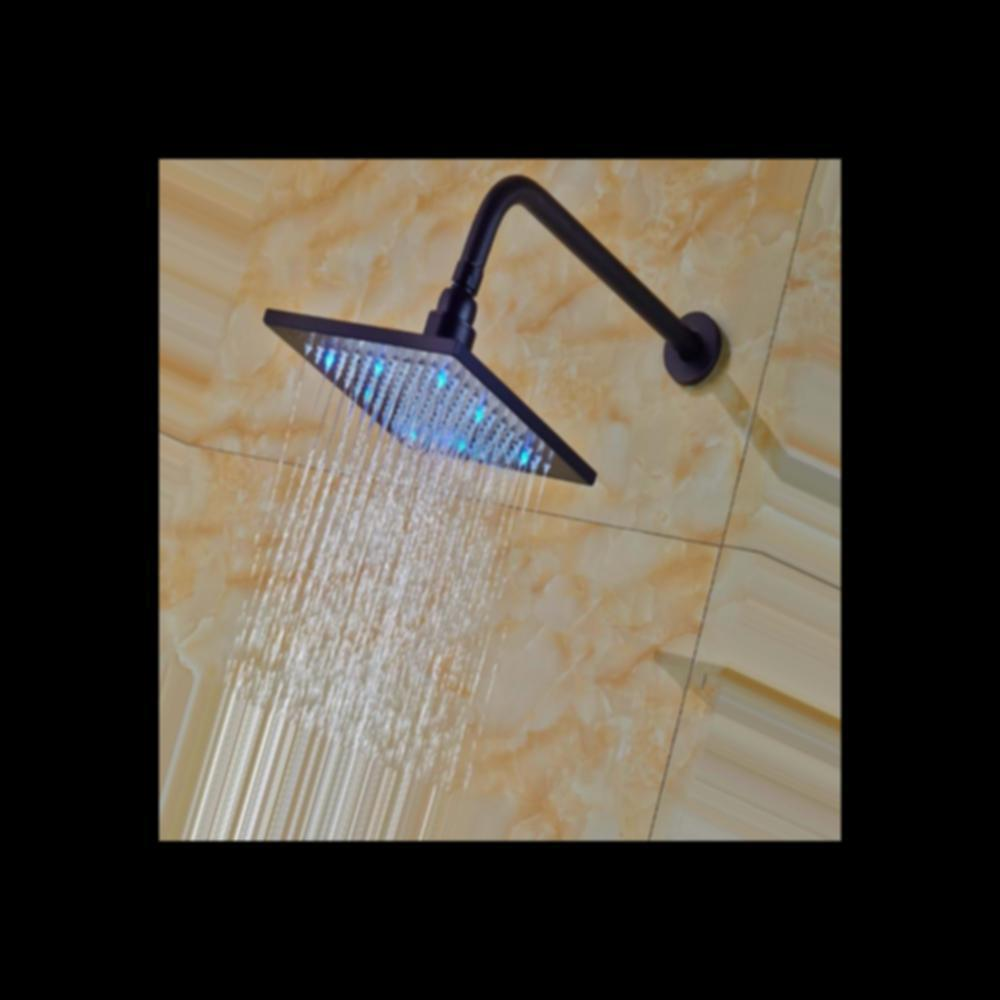Ducha: (159, 159, 841, 841)
